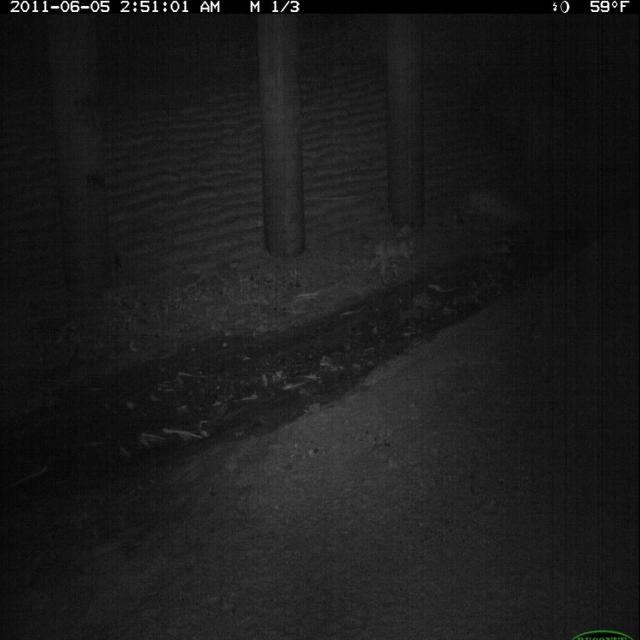bobcat: (365, 228, 423, 292)
